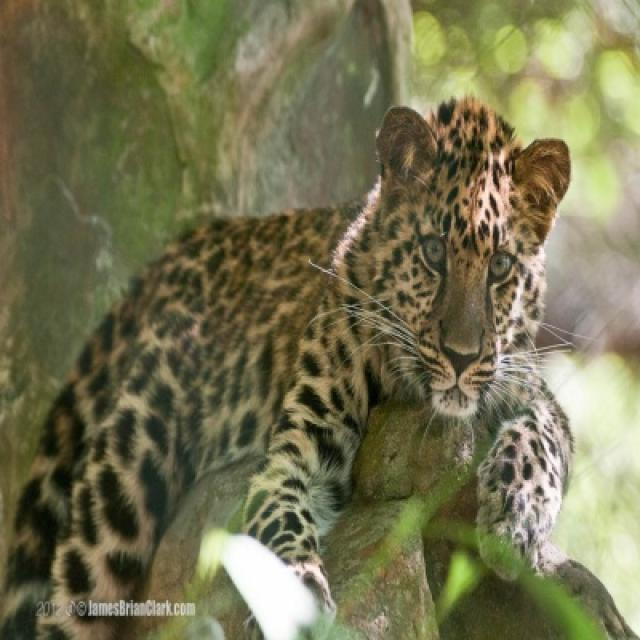Jaguar: (0, 96, 576, 638)
